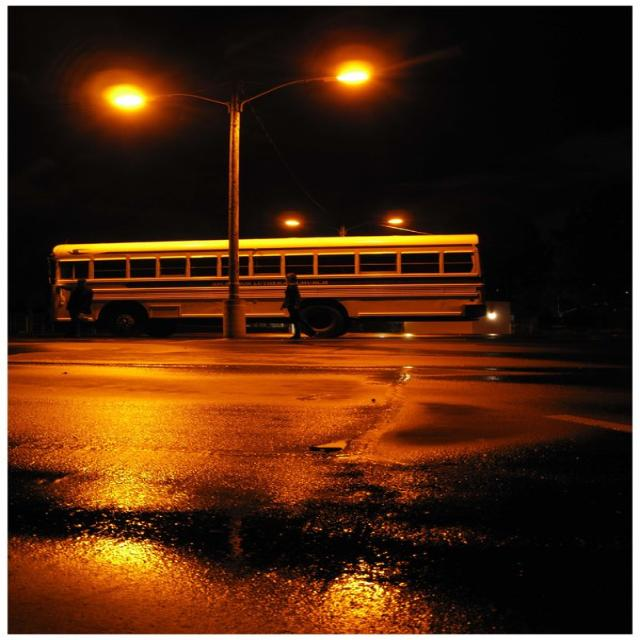Bus: (34, 223, 549, 343)
People: (43, 261, 103, 334), (269, 259, 314, 347)
